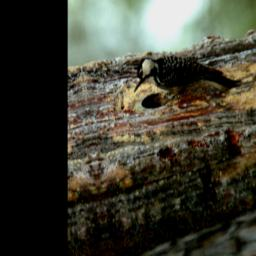Woodpecker: (125, 29, 252, 126)
